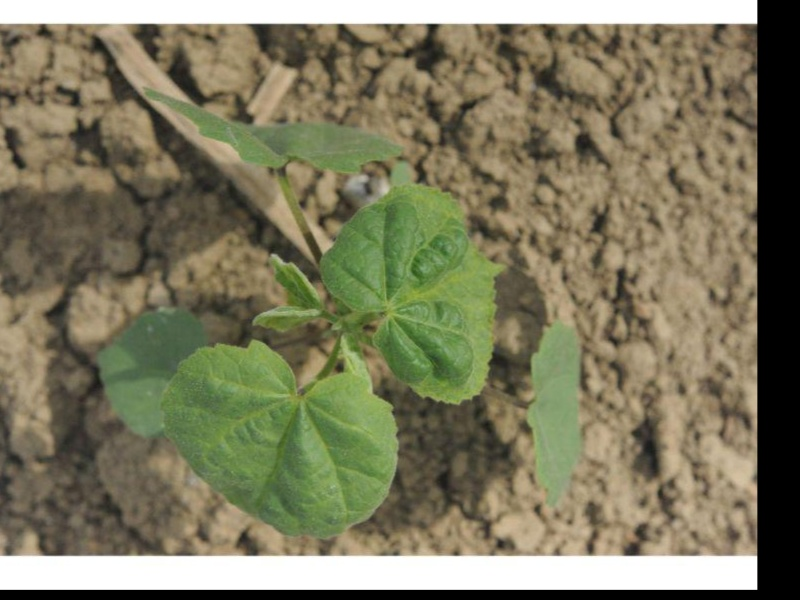velvet: (98, 86, 583, 535)
